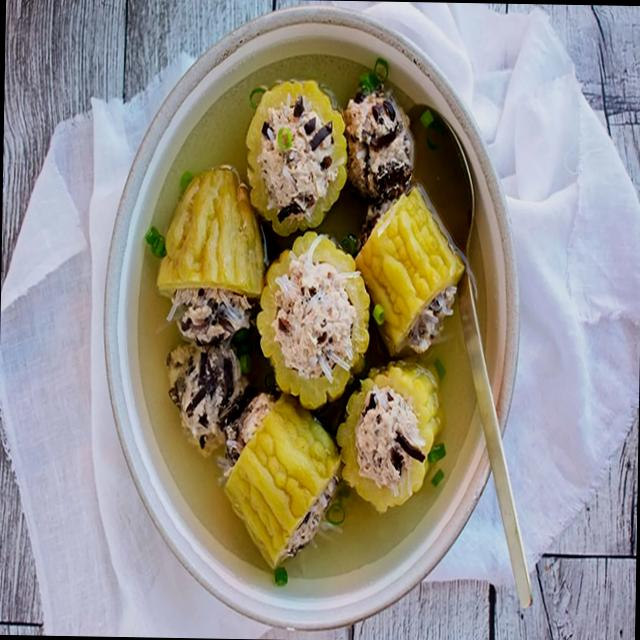kho qua: (256, 231, 369, 407), (157, 165, 265, 345), (354, 186, 465, 354), (337, 360, 443, 512), (246, 79, 347, 235)
